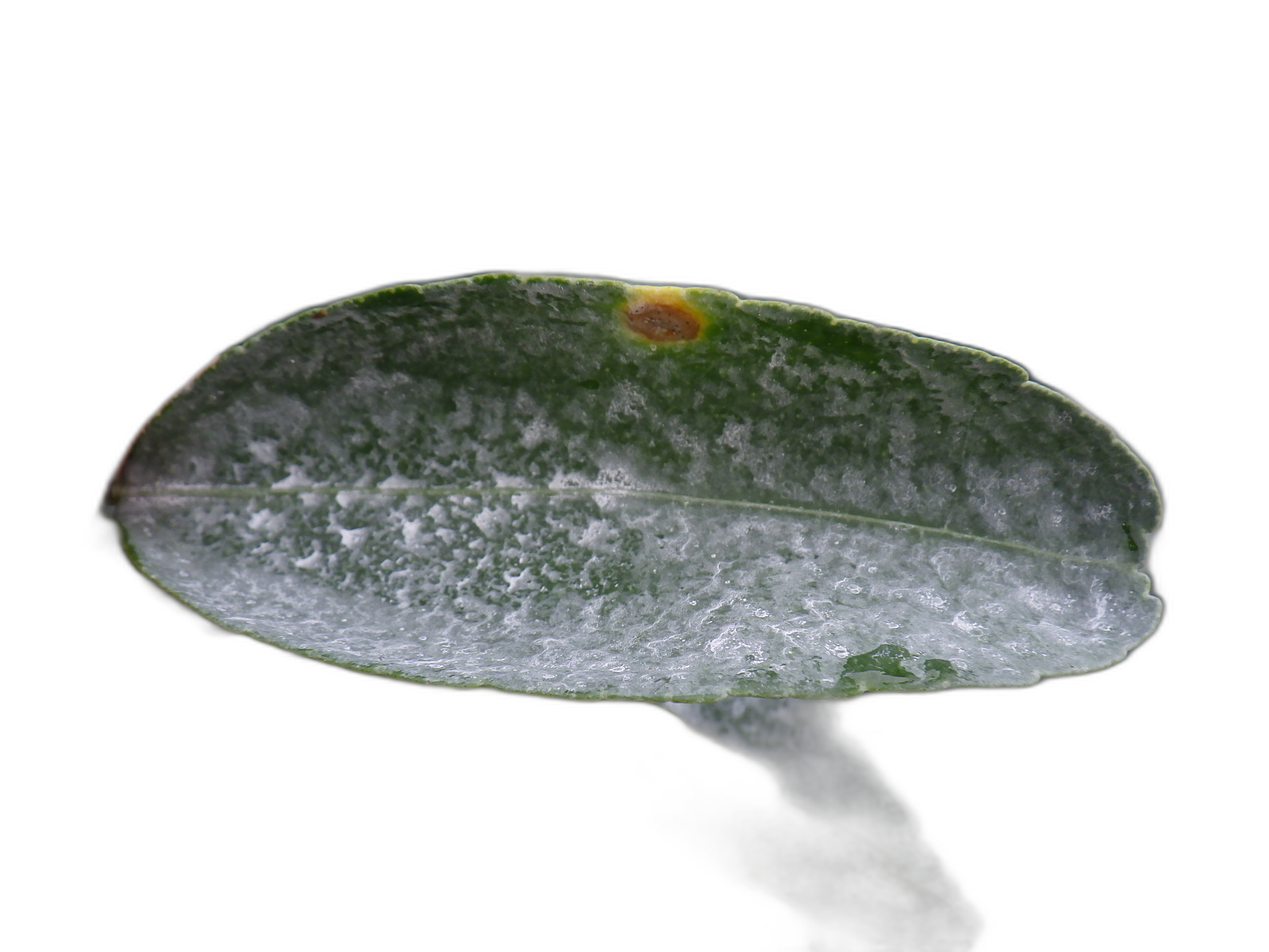Canker: (626, 301, 699, 340)
